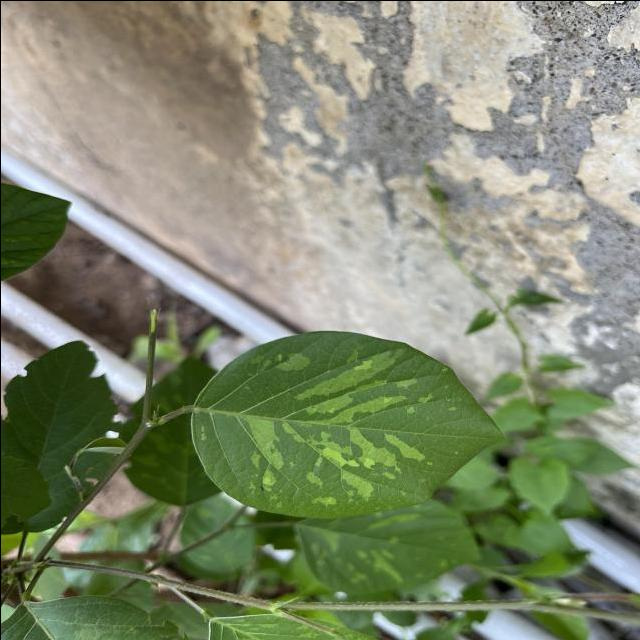Desmodium gangeticum: (187, 327, 508, 520)
